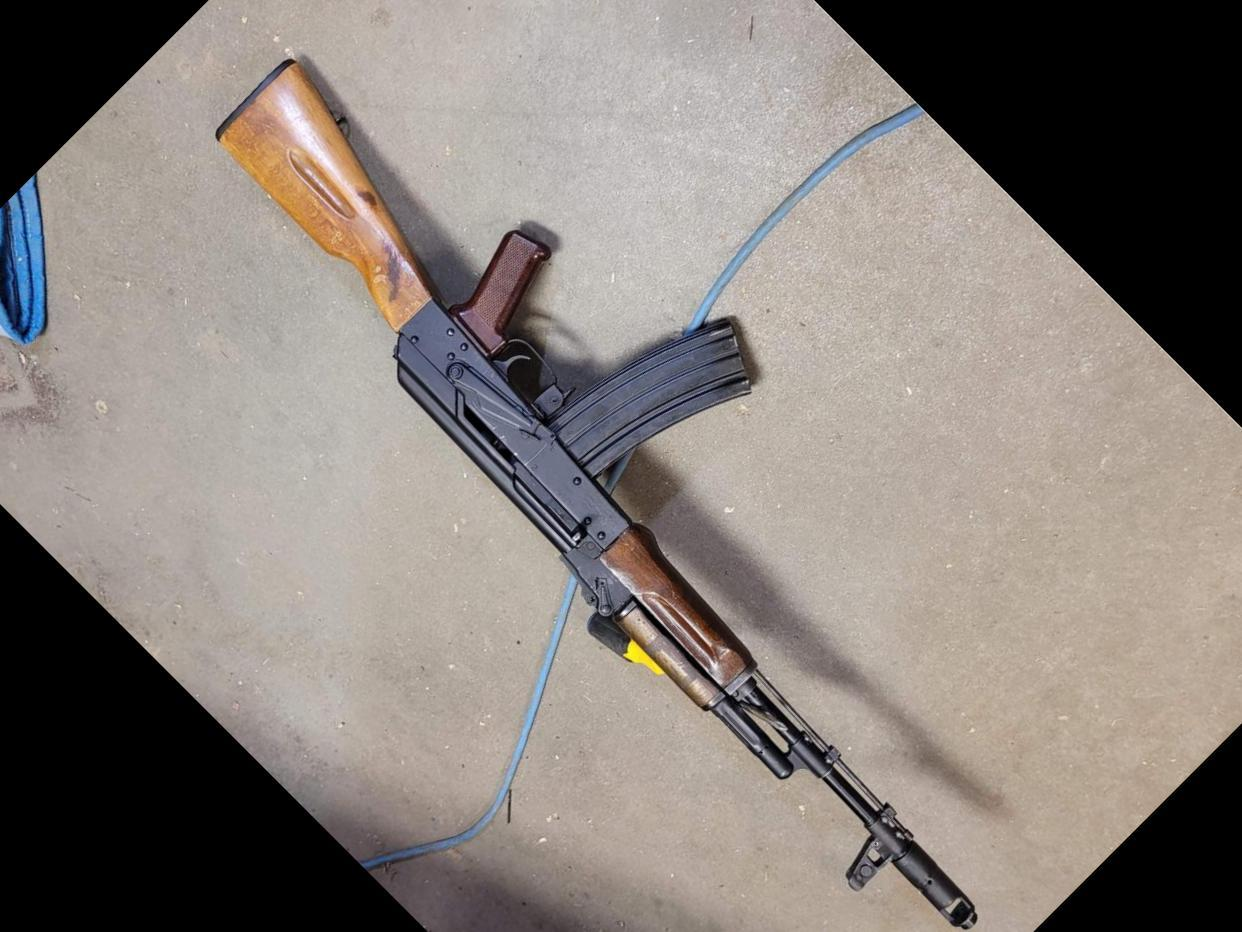larga: (210, 57, 981, 932)
